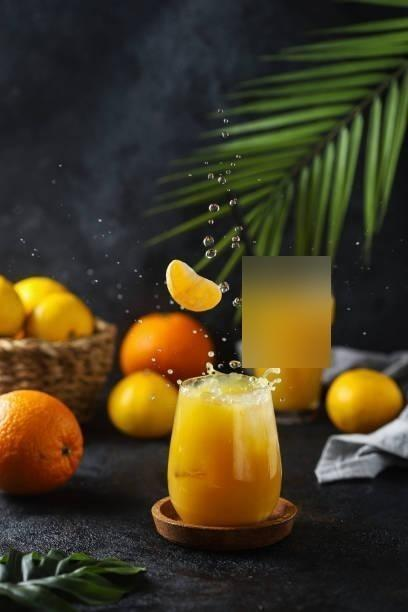glass-normal: (165, 371, 283, 528)
